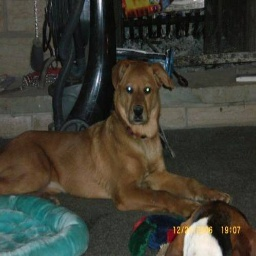dog: (0, 54, 223, 222)
